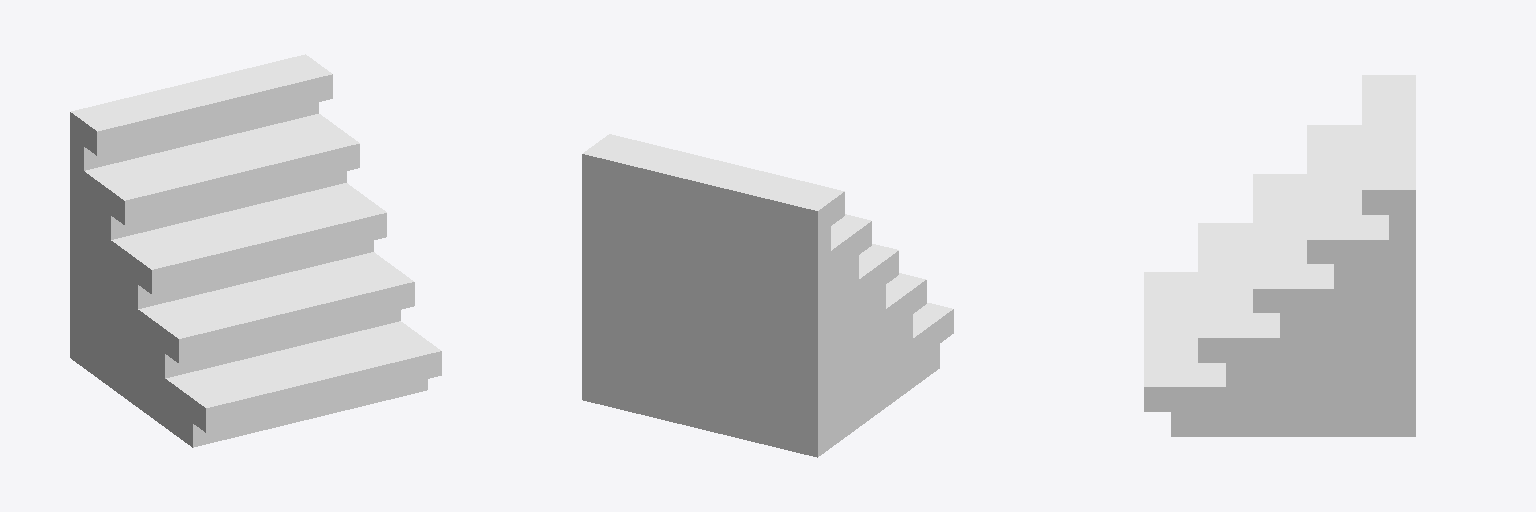
Rendered from wall_stairs_straight.obj.
3 renders of one model, left to right at view 1: azimuth 30°, elevation 25°; view 2: azimuth 150°, elevation 25°; view 3: azimuth 270°, elevation 25°, orthographic.
Visible parts, largest first — view 1: object 1; view 2: object 1; view 3: object 1.
Part boxes in pixels (x1,y1,x2,y2): object 1: (70, 54, 441, 447); object 1: (582, 134, 953, 457); object 1: (1144, 75, 1415, 436).
Bounding box in the file's own units: 1 × 1 × 1.